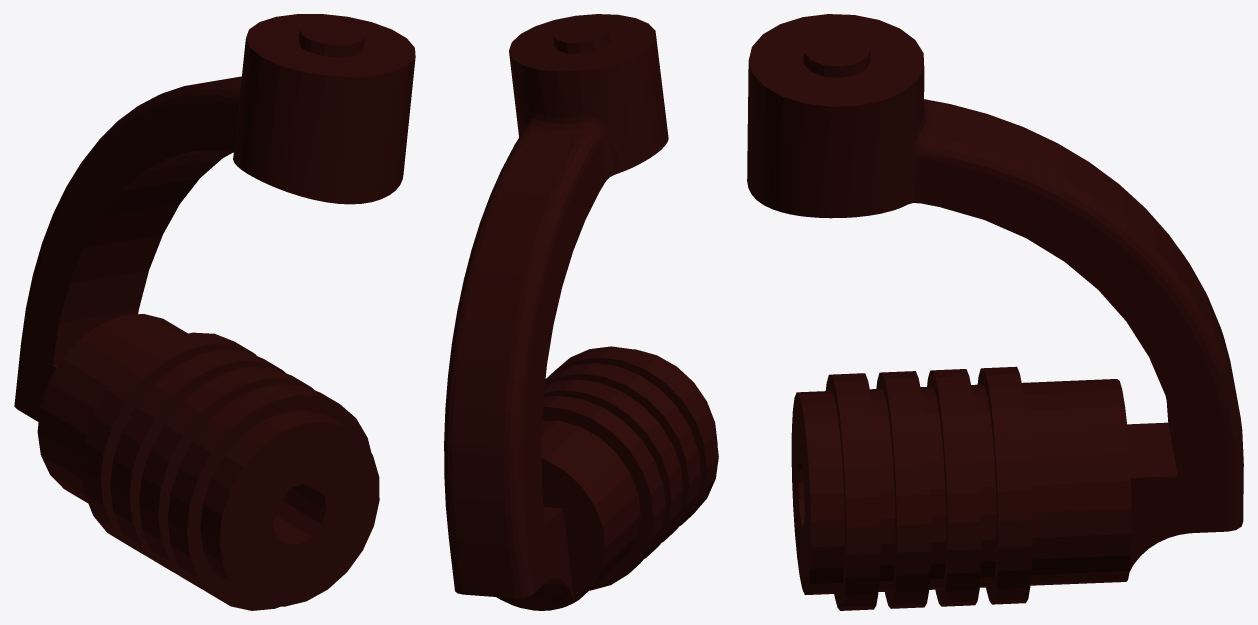
The model's file is Mars6Mars_Rover__Curiosity_1_0__-_33_Front_Wheel_Servo_mech.006.dae.
The picture shows the model from 3 angles, left to right: view 1: azimuth 30°, elevation 25°; view 2: azimuth 150°, elevation 25°; view 3: azimuth 270°, elevation 25°; orthographic projection. The views are drawn at different scales.
Parts seen in each view (by area): view 1: tmp_export_Mars6Mars_Rover__Curiosity_1_0__-_33_Front_Wheel_; view 2: tmp_export_Mars6Mars_Rover__Curiosity_1_0__-_33_Front_Wheel_; view 3: tmp_export_Mars6Mars_Rover__Curiosity_1_0__-_33_Front_Wheel_.
Part boxes in pixels (x1=…): tmp_export_Mars6Mars_Rover__Curiosity_1_0__-_33_Front_Wheel_: x1=14, y1=14, x2=415, y2=610; tmp_export_Mars6Mars_Rover__Curiosity_1_0__-_33_Front_Wheel_: x1=444, y1=14, x2=718, y2=610; tmp_export_Mars6Mars_Rover__Curiosity_1_0__-_33_Front_Wheel_: x1=747, y1=14, x2=1243, y2=610.
Size of the model in its own units: 0.0589 by 0.1028 by 0.1326.
